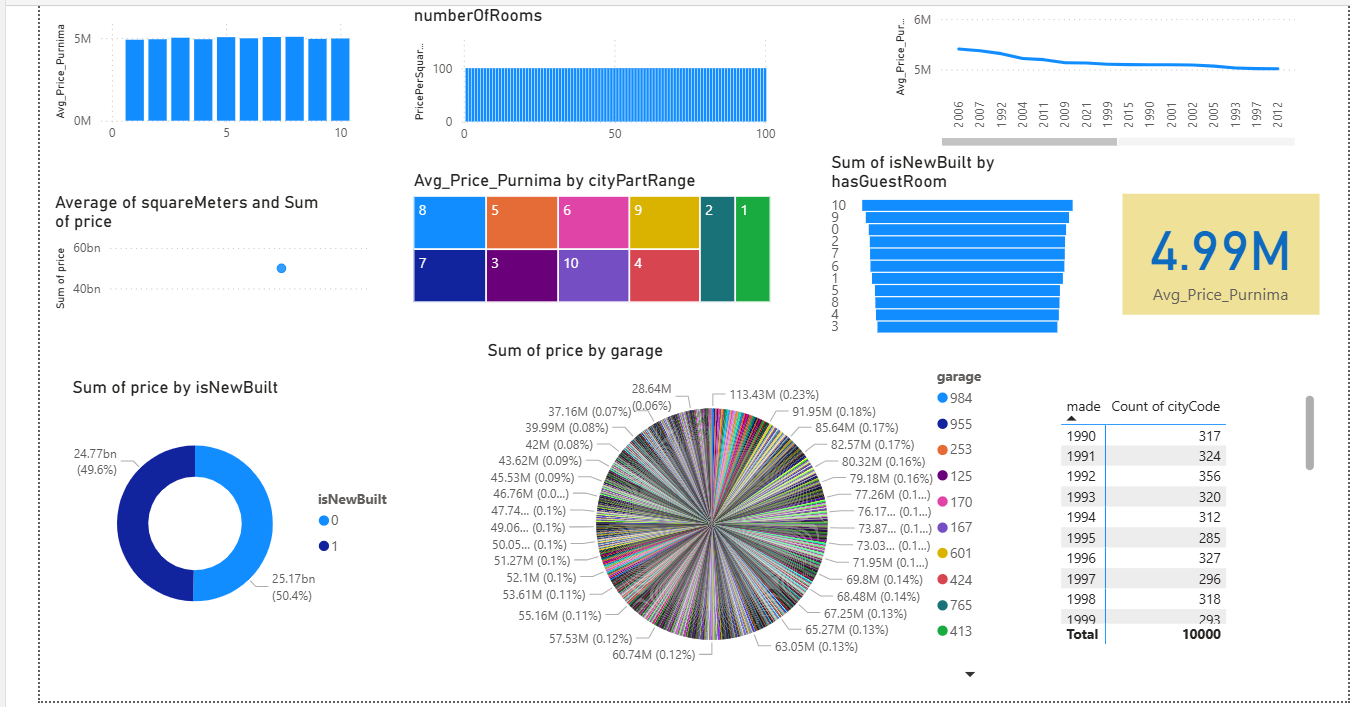

The page's visual inventory and layout, read from the dashboard file:
{"tool":"powerbi","page":{"name":"Page 1","canvas":[1280,720],"ordinal":0},"visuals":[{"type":"columnChart","fields":{"Category":["ParisHousing.cityPartRange"],"Y":["ParisHousing.Avg_Price_Purnima"]},"box":[9.6,0,299.1,182.5],"z":0},{"type":"clusteredColumnChart","fields":{"Y":["ParisHousing.PricePerSquareMeter_Purnima"],"Category":["ParisHousing.numberOfRooms"]},"box":[361.2,20,365,163.8],"z":1000},{"type":"treemap","fields":{"Group":["ParisHousing.cityPartRange","ParisHousing.hasPool"],"Values":["ParisHousing.Avg_Price_Purnima"]},"box":[361.1,200,358.9,134.4],"z":2000},{"type":"scatterChart","fields":{"X":["ParisHousing.squareMeters"],"Y":["ParisHousing.price"]},"box":[10,221.1,316.7,121.1],"z":3000},{"type":"pieChart","fields":{"Category":["ParisHousing.garage"],"Y":["ParisHousing.price"]},"box":[433.3,366.7,513.3,340],"z":4000},{"type":"donutChart","fields":{"Category":["ParisHousing.isNewBuilt"],"Y":["ParisHousing.price"]},"box":[27.5,402.5,333.8,267.5],"z":5000},{"type":"pivotTable","fields":{"Rows":["ParisHousing.made"],"Values":["ParisHousing.cityCode"]},"box":[993.8,416.2,257.5,253.8],"z":6000},{"type":"lineChart","fields":{"Category":["ParisHousing.made"],"Y":["ParisHousing.Avg_Price_Purnima"]},"box":[831.2,18.8,401.2,163.8],"z":7000},{"type":"card","fields":{"Values":["ParisHousing.Avg_Price_Purnima"]},"box":[1058.8,223.8,192.5,118.8],"z":8000},{"type":"funnel","fields":{"Category":["ParisHousing.hasGuestRoom"],"Y":["ParisHousing.isNewBuilt"]},"box":[768.8,182.5,251.2,183.8],"z":9000}]}

Visuals, with their boxes on the page's 1280x720 design canvas (x1, y1, x2, y2). These are canvas units, not pixel positions in the 1350x707 screenshot, which may show the page scaled, cropped or inside an application window:
columnChart - ParisHousing.cityPartRange x ParisHousing.Avg_Price_Purnima: bbox(10, 0, 309, 182)
clusteredColumnChart - ParisHousing.PricePerSquareMeter_Purnima x ParisHousing.numberOfRooms: bbox(361, 20, 726, 184)
treemap - ParisHousing.cityPartRange x ParisHousing.hasPool: bbox(361, 200, 720, 334)
scatterChart - ParisHousing.squareMeters x ParisHousing.price: bbox(10, 221, 327, 342)
pieChart - ParisHousing.garage x ParisHousing.price: bbox(433, 367, 947, 707)
donutChart - ParisHousing.isNewBuilt x ParisHousing.price: bbox(28, 402, 361, 670)
pivotTable - ParisHousing.made x ParisHousing.cityCode: bbox(994, 416, 1251, 670)
lineChart - ParisHousing.made x ParisHousing.Avg_Price_Purnima: bbox(831, 19, 1232, 183)
card - ParisHousing.Avg_Price_Purnima: bbox(1059, 224, 1251, 343)
funnel - ParisHousing.hasGuestRoom x ParisHousing.isNewBuilt: bbox(769, 182, 1020, 366)
